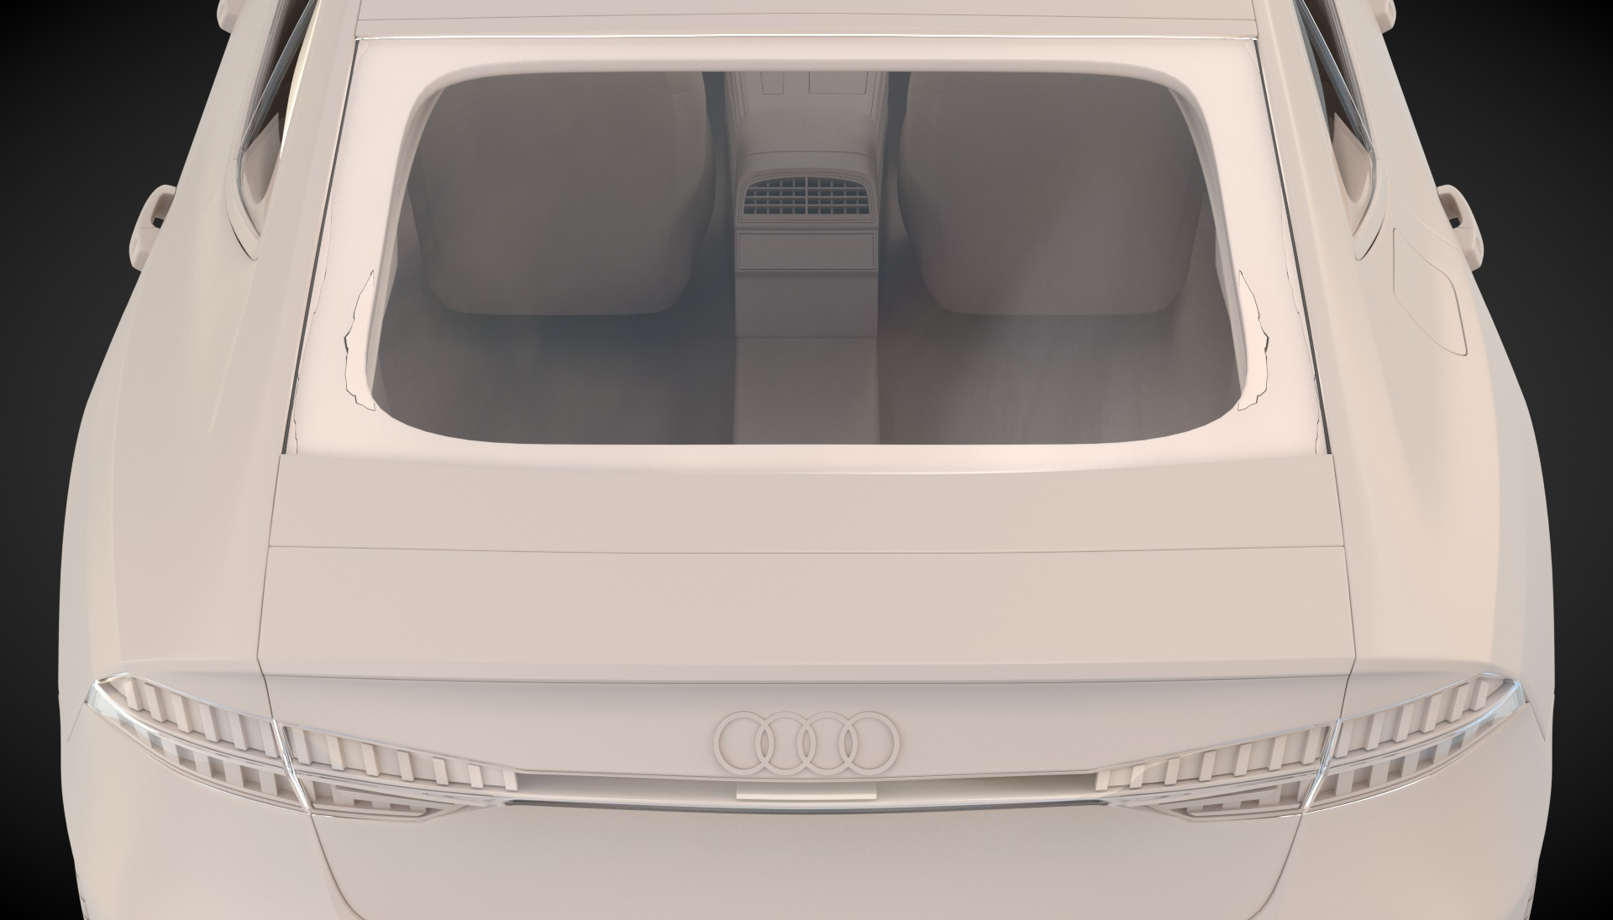hatch: (1386, 223, 1475, 362)
